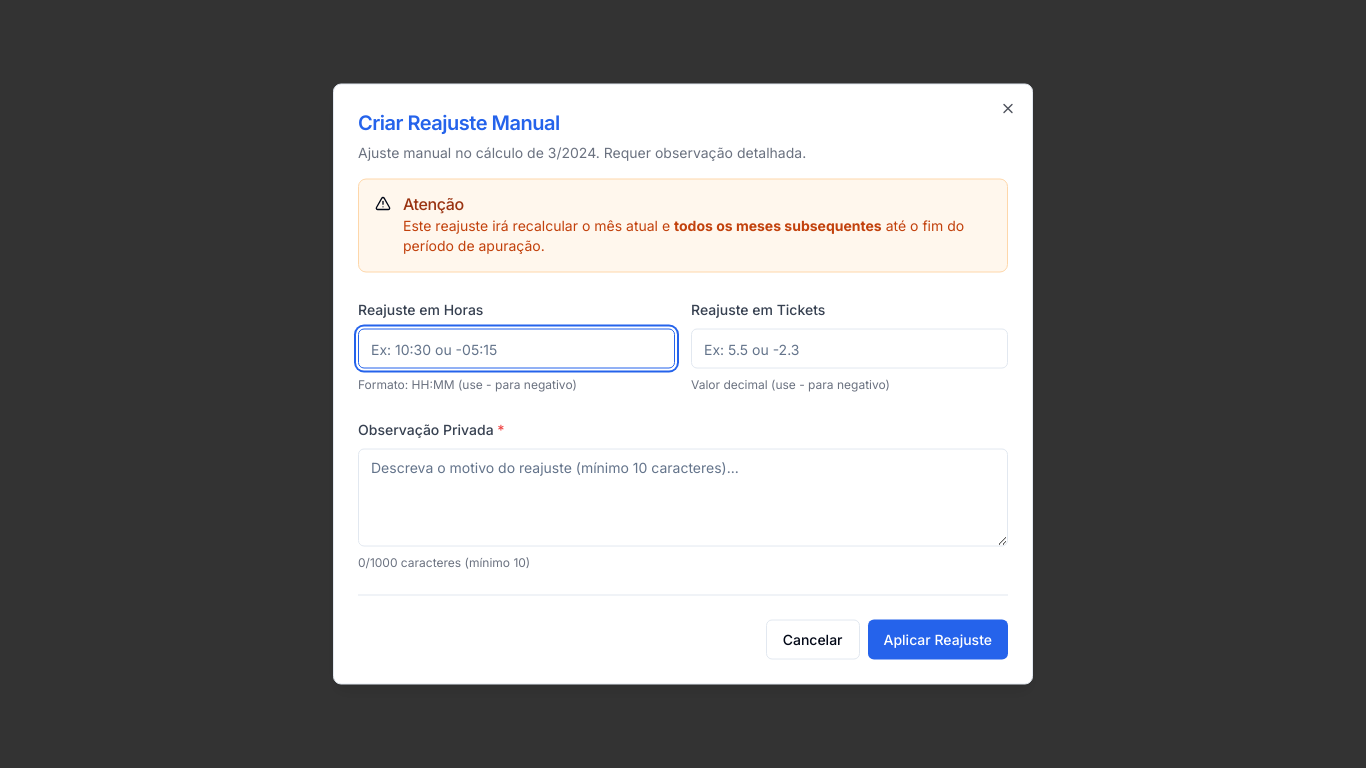
Test: ModalReajuste › deve validar observação privada com mínimo 10 caracteres
The image size is (1366, 768).
Tentar enviar com observação curta
Type "Curto" into the text box with placeholder "Descreva o motivo do reajuste (mínimo 10 caracteres)...". click: (683,498)
box: x1=358 y1=448 x2=1008 y2=546
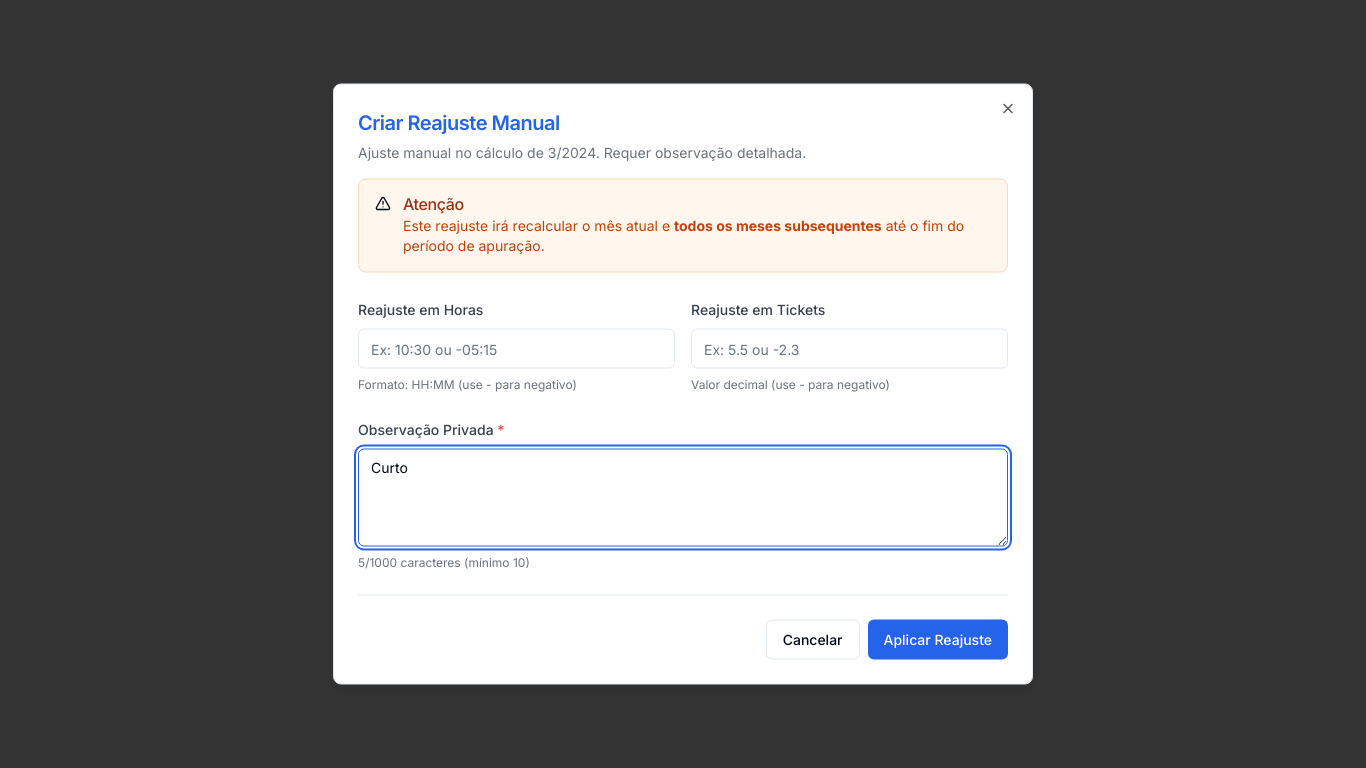
Click the button "Aplicar Reajuste". click: (938,640)
box: x1=868 y1=620 x2=1008 y2=660
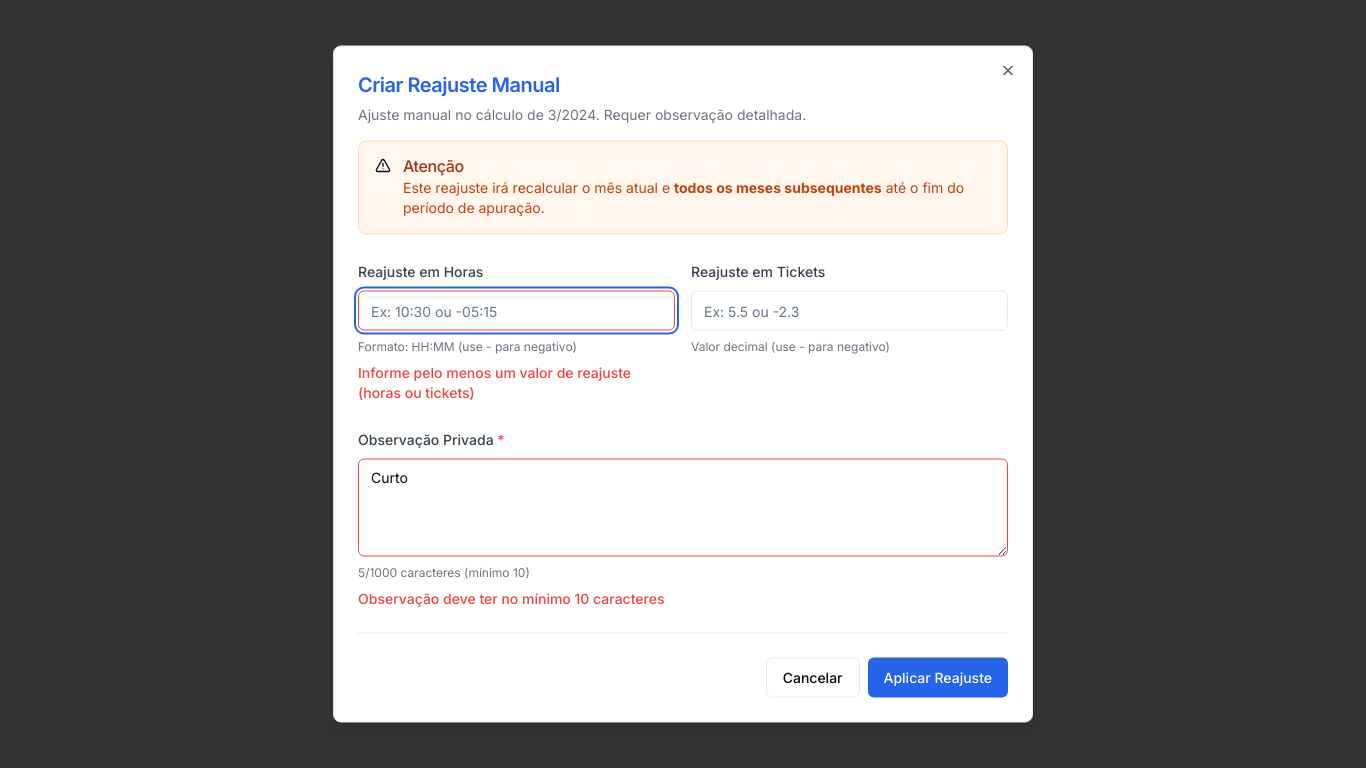
Check: the text "Observação deve ter no mínimo 10 caracteres" is shown, box x1=358 y1=590 x2=664 y2=606
